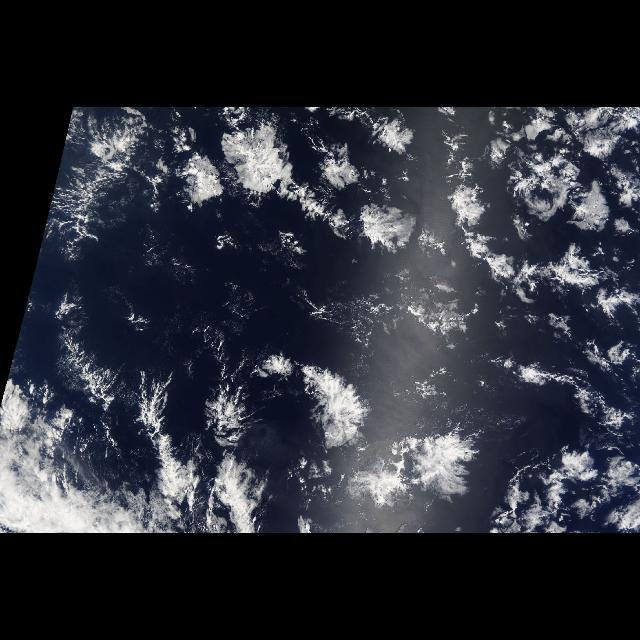Flower: (29, 109, 638, 529)
